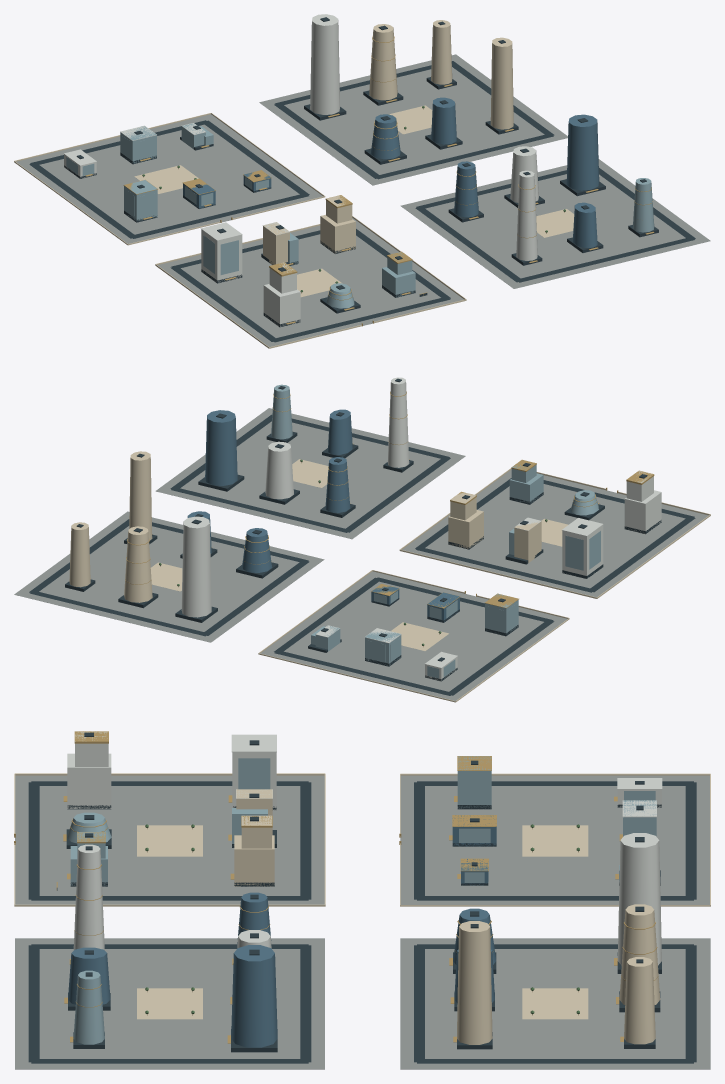
File: GC-TILE-15-18.glb
3 views of the same model, one above another, from view 1: azimuth 30°, elevation 25°; view 2: azimuth 150°, elevation 25°; view 3: azimuth 270°, elevation 25° (orthographic). The views are drawn at different scales.
Parts seen in each view (by area): view 1: GC-TILE-15-18-paving, GC-TILE-15-18-dark, GC-TILE-15-18-ivory, GC-TILE-15-18-white, GC-TILE-15-18-glass, GC-TILE-15-18-blue, GC-TILE-15-18-gold; view 2: GC-TILE-15-18-paving, GC-TILE-15-18-dark, GC-TILE-15-18-ivory, GC-TILE-15-18-white, GC-TILE-15-18-glass, GC-TILE-15-18-blue, GC-TILE-15-18-gold; view 3: GC-TILE-15-18-paving, GC-TILE-15-18-ivory, GC-TILE-15-18-dark, GC-TILE-15-18-white, GC-TILE-15-18-blue, GC-TILE-15-18-glass, GC-TILE-15-18-gold.
Part boxes in pixels (box(x1,y1,x2,y2)): GC-TILE-15-18-paving: box(16, 54, 710, 346); GC-TILE-15-18-dark: box(29, 17, 695, 342); GC-TILE-15-18-ivory: box(14, 20, 574, 348); GC-TILE-15-18-white: box(63, 14, 538, 326); GC-TILE-15-18-glass: box(66, 123, 654, 308); GC-TILE-15-18-blue: box(183, 97, 599, 247); GC-TILE-15-18-gold: box(85, 36, 654, 326); GC-TILE-15-18-paving: box(14, 408, 708, 700); GC-TILE-15-18-dark: box(29, 378, 695, 695); GC-TILE-15-18-ivory: box(69, 451, 710, 702); GC-TILE-15-18-white: box(181, 377, 661, 680); GC-TILE-15-18-glass: box(271, 384, 600, 678); GC-TILE-15-18-blue: box(187, 409, 459, 622); GC-TILE-15-18-gold: box(125, 391, 654, 608); GC-TILE-15-18-paving: box(15, 775, 710, 1069); GC-TILE-15-18-ivory: box(14, 773, 710, 1044); GC-TILE-15-18-dark: box(28, 732, 696, 1063); GC-TILE-15-18-white: box(67, 731, 662, 965); GC-TILE-15-18-blue: box(68, 815, 496, 1047); GC-TILE-15-18-glass: box(67, 756, 656, 1044); GC-TILE-15-18-gold: box(14, 731, 658, 1043).
Size of the model in its own units: 758 by 152 by 760.
